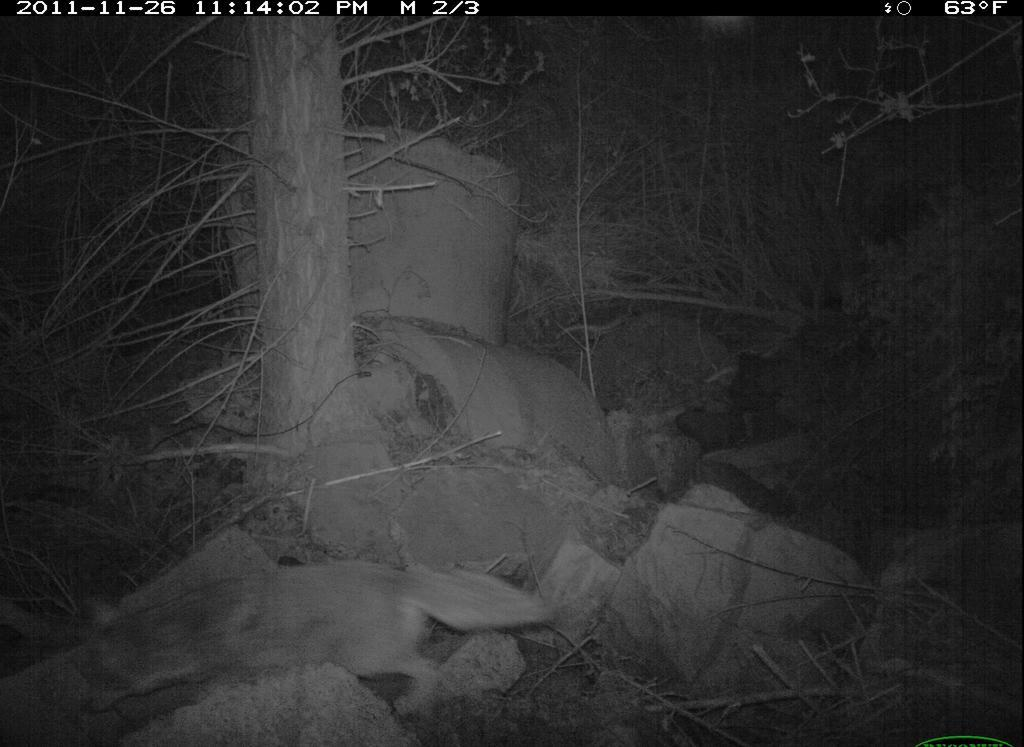coyote: (63, 550, 557, 722)
